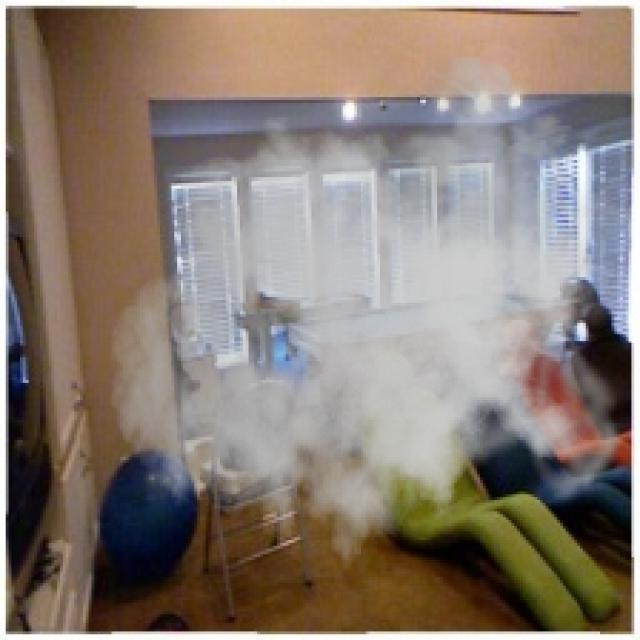Smoke: (109, 57, 632, 592)
